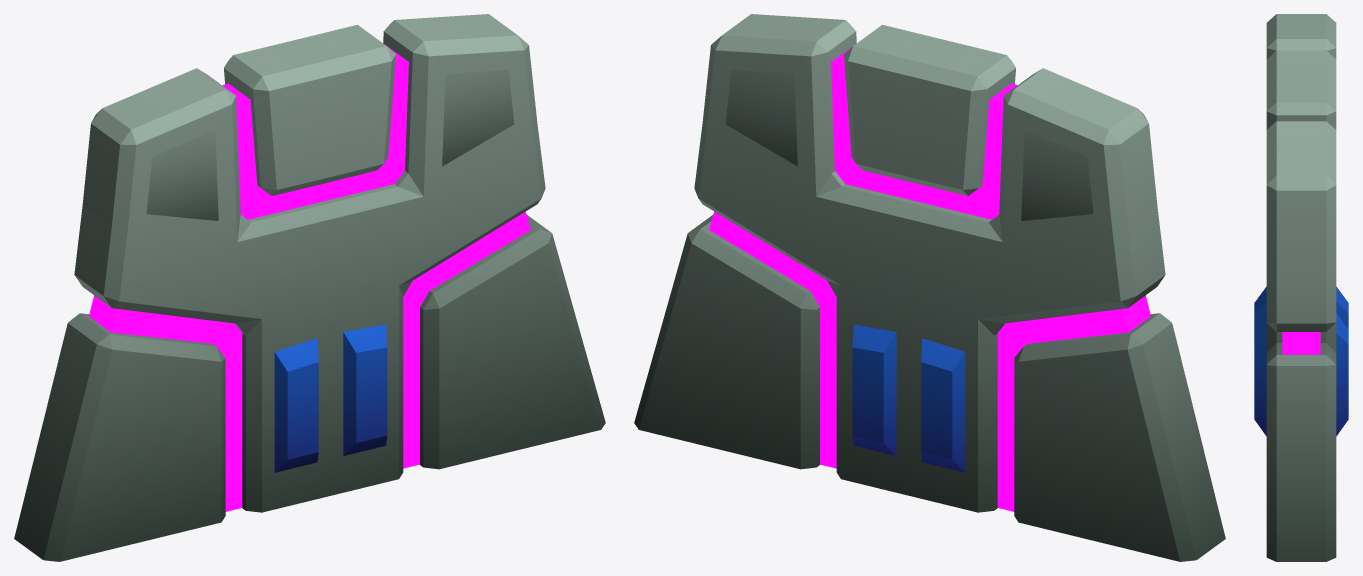
Rendered from wall_003.fbx.
The picture shows the model from 3 angles, left to right: view 1: azimuth 30°, elevation 25°; view 2: azimuth 150°, elevation 25°; view 3: azimuth 270°, elevation 25°; orthographic projection. The views are drawn at different scales.
Visible parts, largest first — view 1: wall.003; view 2: wall.003; view 3: wall.003.
Part boxes in pixels (x1=…): wall.003: x1=14, y1=14, x2=605, y2=561; wall.003: x1=634, y1=14, x2=1225, y2=561; wall.003: x1=1254, y1=14, x2=1348, y2=561.
Bounding box in the file's own units: 587 × 429 × 99.32.
